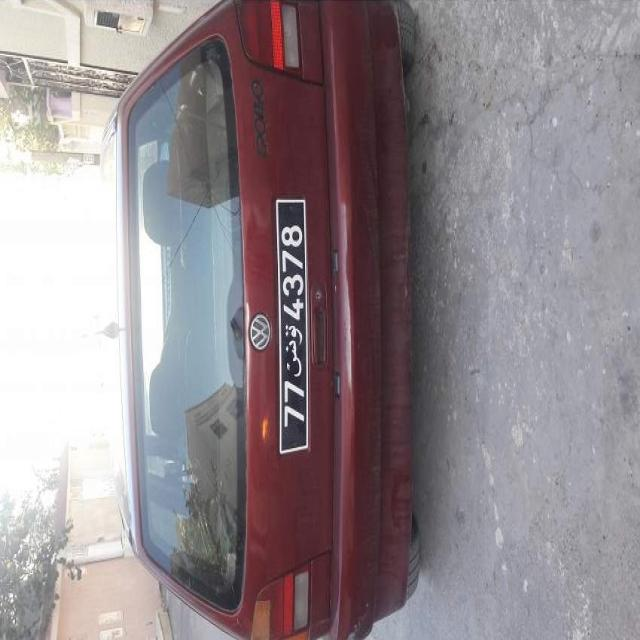licence plate: (278, 204, 306, 450)
